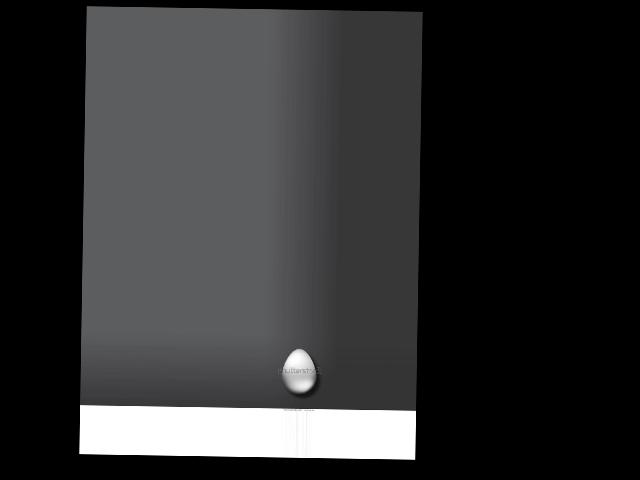egg: (281, 348, 317, 393)
